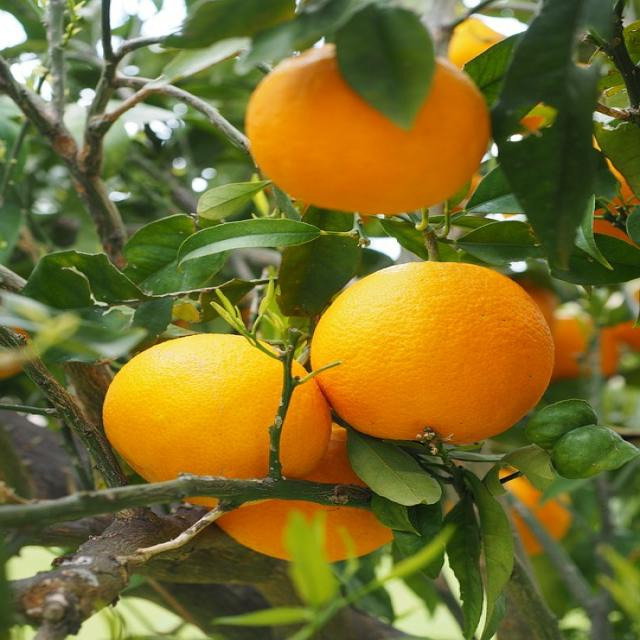Orange: (312, 261, 553, 441), (247, 47, 491, 215), (104, 333, 328, 481)
